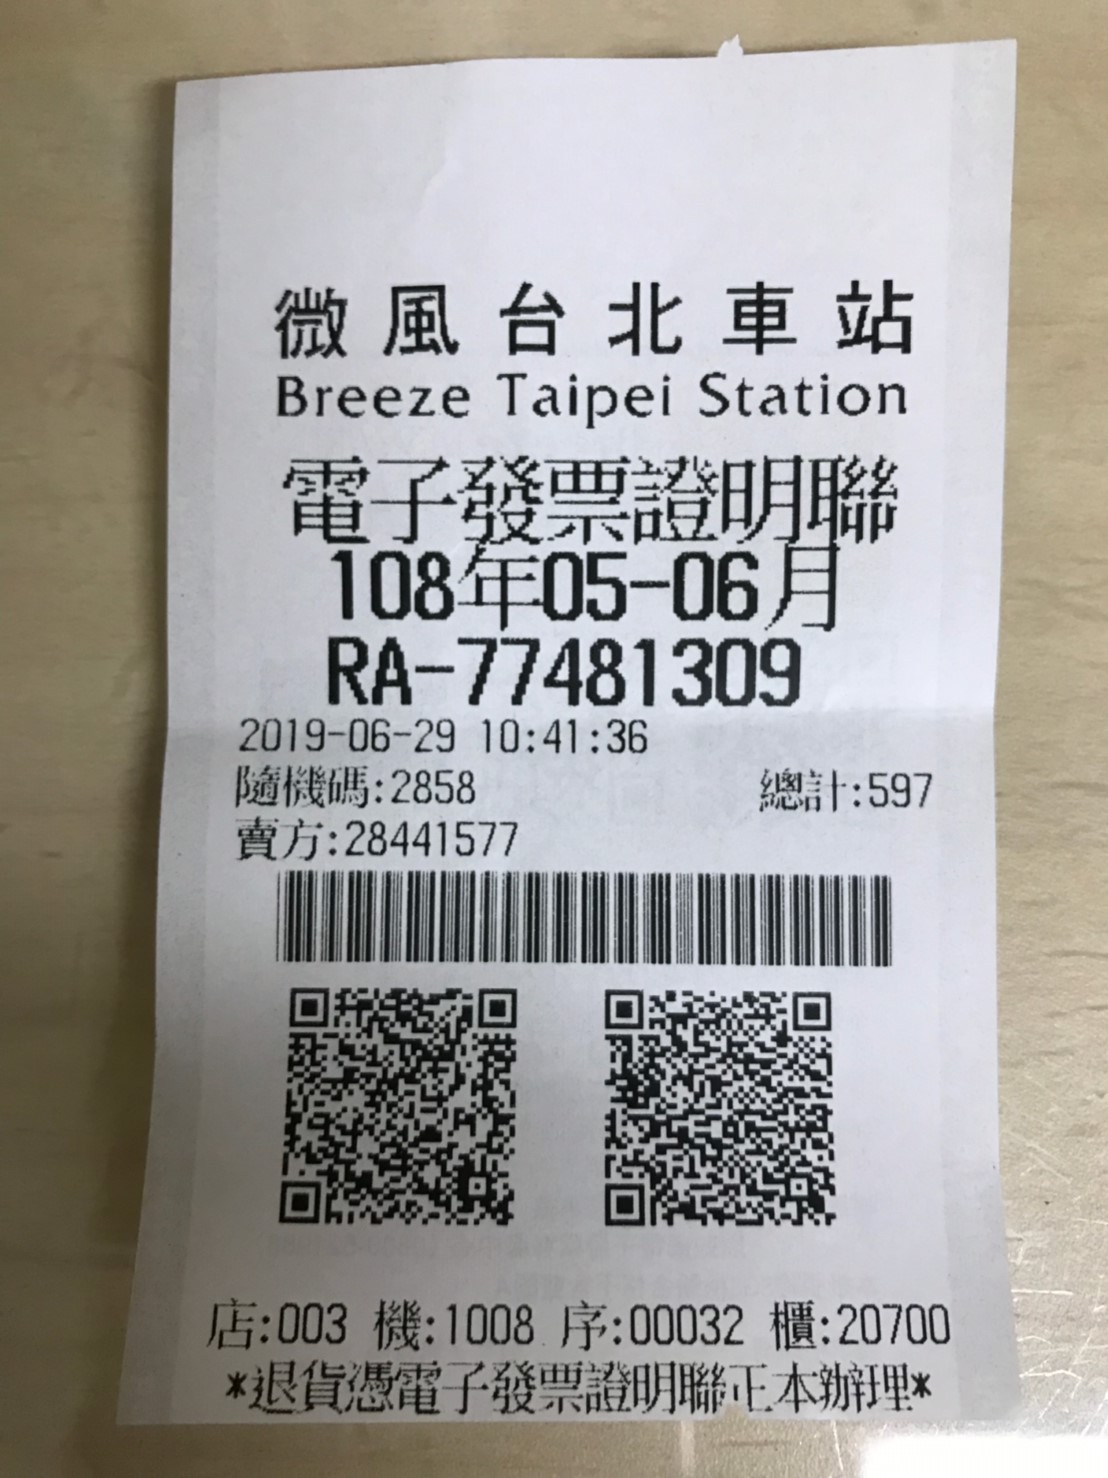Date_New: (329, 545, 840, 632)
Number_New: (457, 632, 807, 713)
